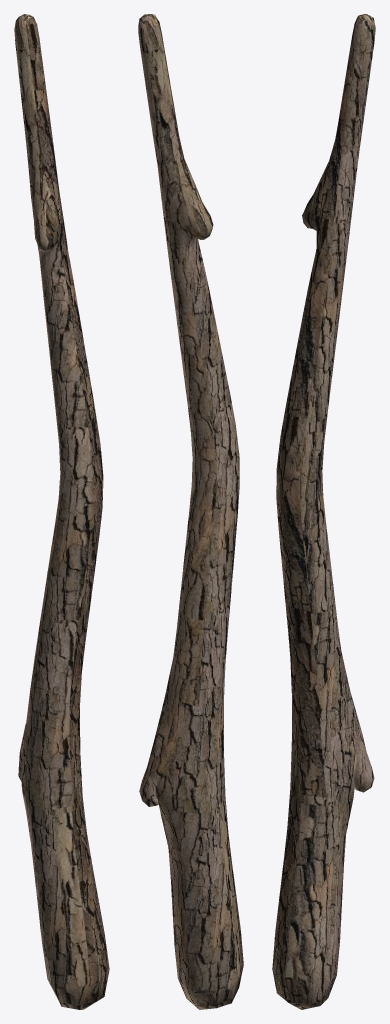
File: Plka.fbx
The picture shows the model from 3 angles, left to right: view 1: azimuth 90°, elevation 25°; view 2: azimuth 150°, elevation 25°; view 3: azimuth 330°, elevation 25°; orthographic projection. The views are drawn at different scales.
Parts seen in each view (by area): view 1: Cube.001; view 2: Cube.001; view 3: Cube.001.
Part boxes in pixels (box(x1,y1,x2,y2)): Cube.001: box(14, 14, 109, 1009); Cube.001: box(138, 14, 243, 1009); Cube.001: box(272, 14, 375, 1009).
Size of the model in its own units: 11.74 by 154 by 13.61.
Materials: 1 (1 with a texture image).
